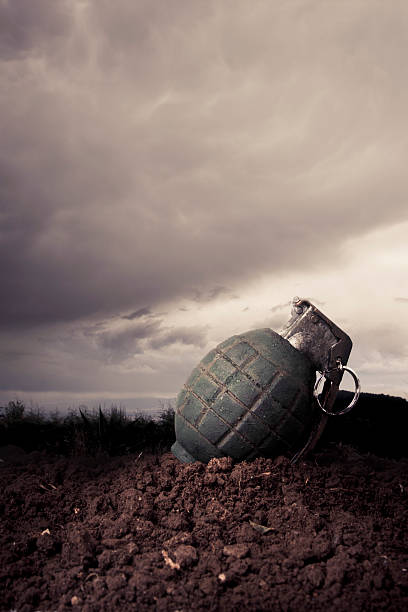e1: (168, 298, 361, 464)
